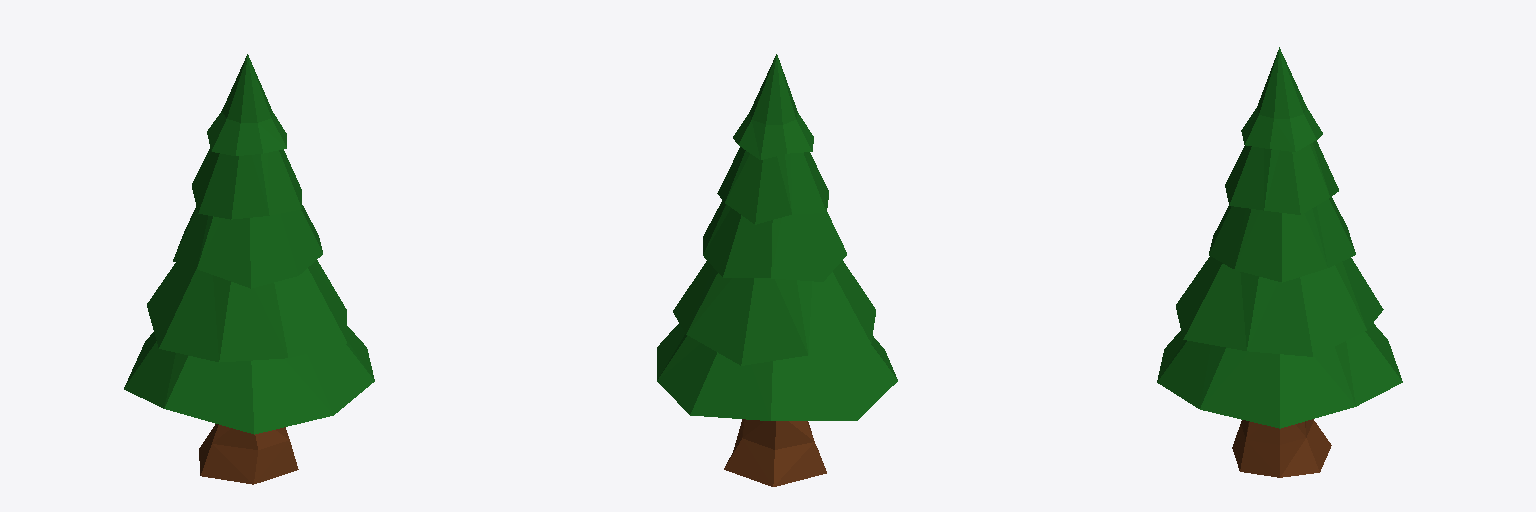
Rendered from PineTree03.obj.
The picture shows the model from 3 angles: view 1: azimuth 30°, elevation 25°; view 2: azimuth 150°, elevation 25°; view 3: azimuth 270°, elevation 25°; orthographic projection.
Parts seen in each view (by area): view 1: Mesh; view 2: Mesh; view 3: Mesh.
Part boxes in pixels (x1,y1,x2,y2): Mesh: (124,54,374,484); Mesh: (657,54,897,486); Mesh: (1157,47,1402,477).
Bounding box in the file's own units: 2.08 × 3.66 × 2.